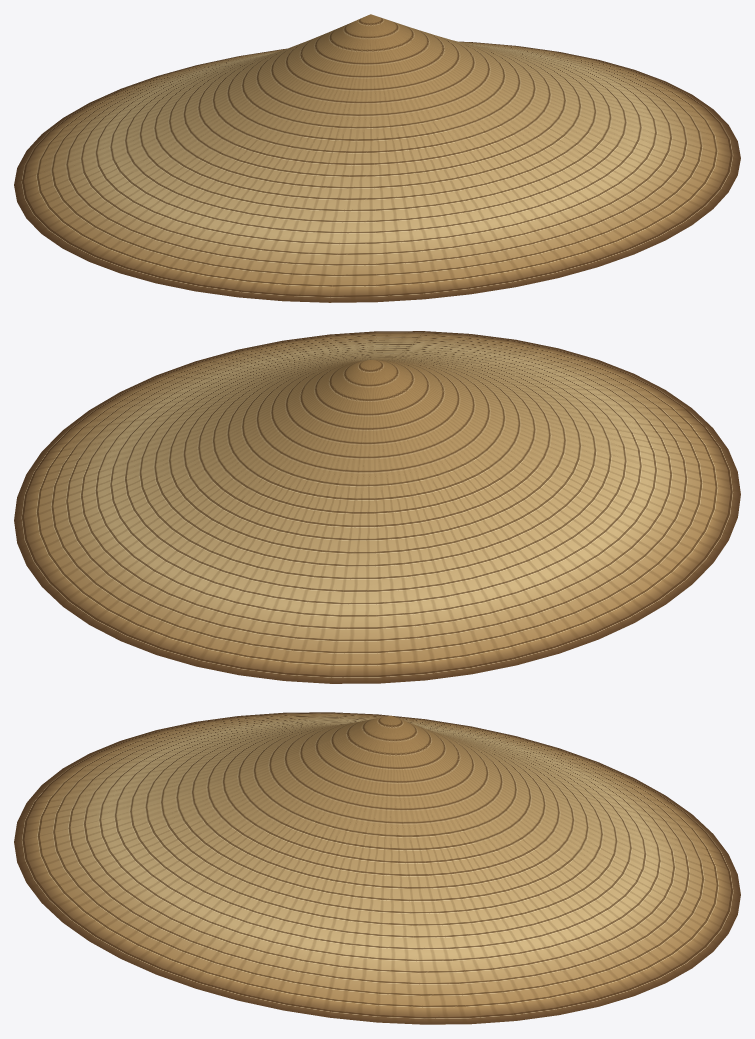
The model's file is non_la_hiep_khach.glb.
3 renders of one model, top to bottom at view 1: azimuth 30°, elevation 25°; view 2: azimuth 150°, elevation 25°; view 3: azimuth 270°, elevation 25°, orthographic.
Visible parts, largest first — view 1: nhanvat1_mesh.006; view 2: nhanvat1_mesh.006; view 3: nhanvat1_mesh.006.
Boxes of the visible parts, box(x1,y1,x2,y2) form: nhanvat1_mesh.006: box(14, 14, 740, 302); nhanvat1_mesh.006: box(14, 331, 740, 683); nhanvat1_mesh.006: box(14, 712, 740, 1024).
Bounding box in the file's own units: 0.504 × 0.1368 × 0.5024.
1 material, 1 textured.
